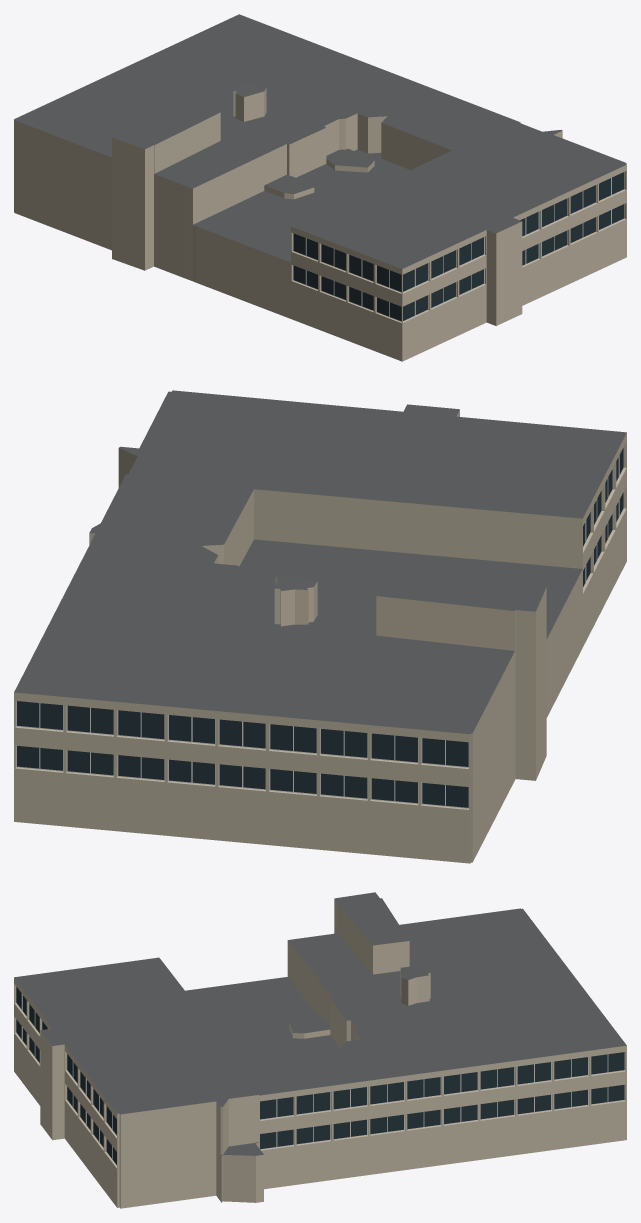
File: recipe-large-politie-meer-en-vaart.glb
3 renders of one model, top to bottom at view 1: azimuth 30°, elevation 25°; view 2: azimuth 150°, elevation 25°; view 3: azimuth 270°, elevation 25°, orthographic. The views are drawn at different scales.
Parts seen in each view (by area): view 1: politie-meer-en-vaart; view 2: politie-meer-en-vaart; view 3: politie-meer-en-vaart.
Part boxes in pixels (x1,y1,x2,y2): politie-meer-en-vaart: (14, 14, 626, 361); politie-meer-en-vaart: (14, 390, 626, 863); politie-meer-en-vaart: (14, 892, 626, 1208).
Bounding box in the file's own units: 42.84 × 11.97 × 53.89.
